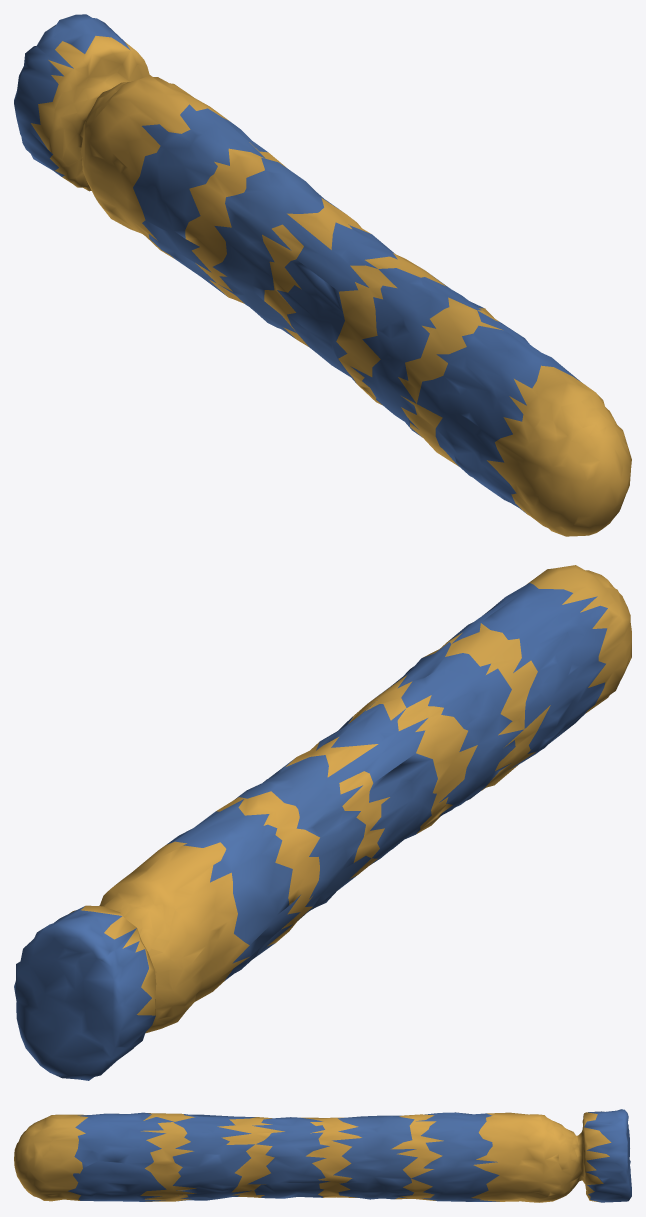
File: den_sock_b_lod1.glb
3 views of the same model, one above another, from view 1: azimuth 30°, elevation 25°; view 2: azimuth 150°, elevation 25°; view 3: azimuth 270°, elevation 25° (orthographic). The views are drawn at different scales.
Parts seen in each view (by area): view 1: den_sock_b.001; view 2: den_sock_b.001; view 3: den_sock_b.001.
Boxes of the visible parts, x1,y1,x2,y2 form: den_sock_b.001: (14, 14, 631, 536); den_sock_b.001: (14, 565, 631, 1080); den_sock_b.001: (14, 1109, 631, 1202).
Size of the model in its own units: 2.86 by 3.64 by 23.79.
